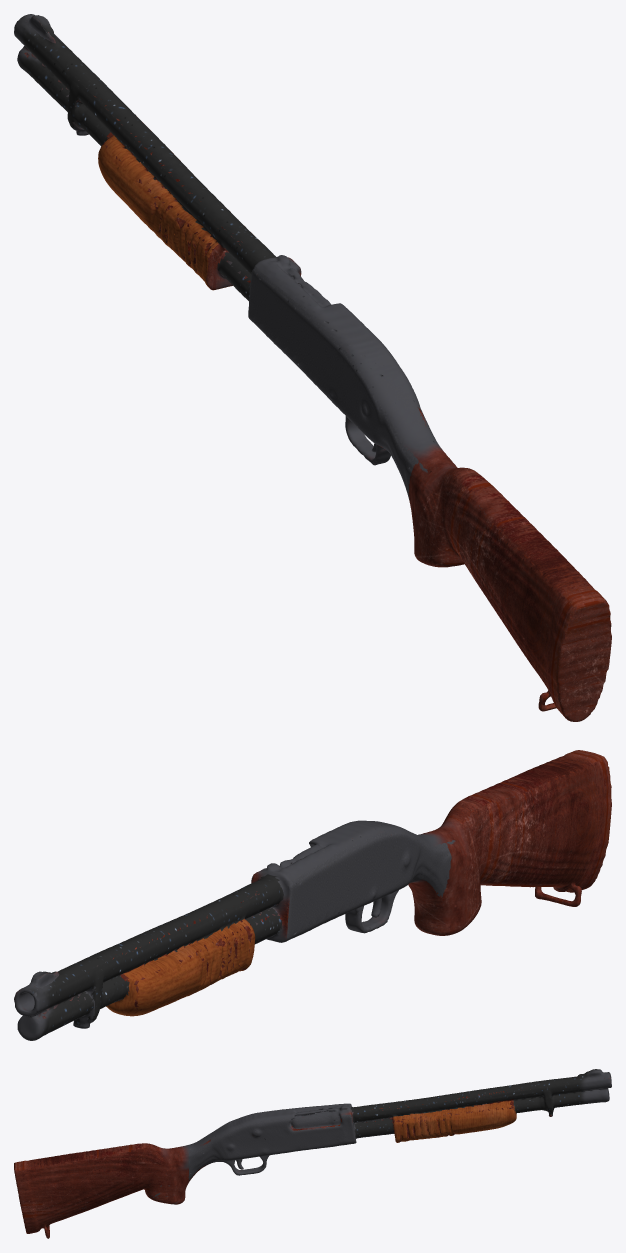
File: Shotgun_Pumpaction.glb
The picture shows the model from 3 angles, top to bottom: view 1: azimuth 30°, elevation 25°; view 2: azimuth 150°, elevation 25°; view 3: azimuth 270°, elevation 25°; orthographic projection. The views are drawn at different scales.
Parts seen in each view (by area): view 1: Shotgun Regular; view 2: Shotgun Regular; view 3: Shotgun Regular.
Boxes of the visible parts, bbox=[...] form: Shotgun Regular: bbox=[14, 14, 611, 721]; Shotgun Regular: bbox=[14, 750, 611, 1040]; Shotgun Regular: bbox=[14, 1069, 611, 1238].
Size of the model in its own units: 0.1125 by 0.6027 by 2.
4 materials, 4 textured.
